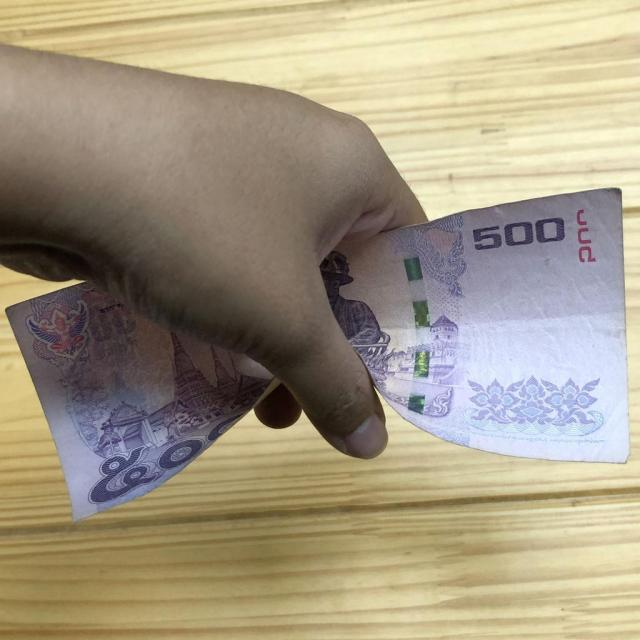THAI500: (324, 189, 629, 463), (6, 284, 283, 519)
